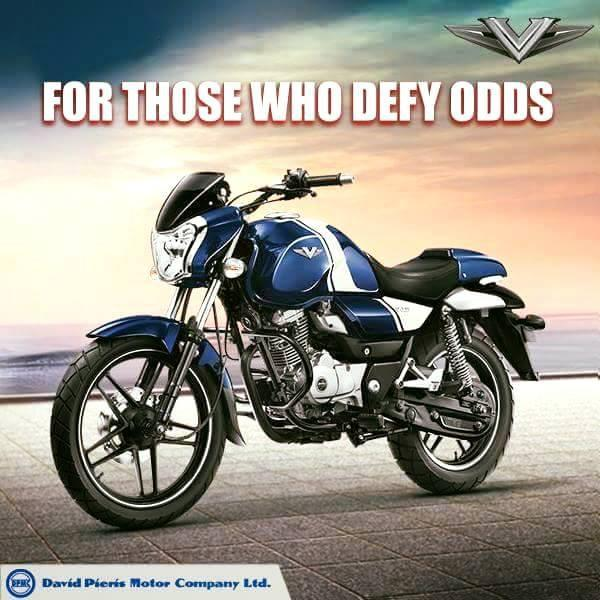motorbike: (50, 171, 546, 530)
